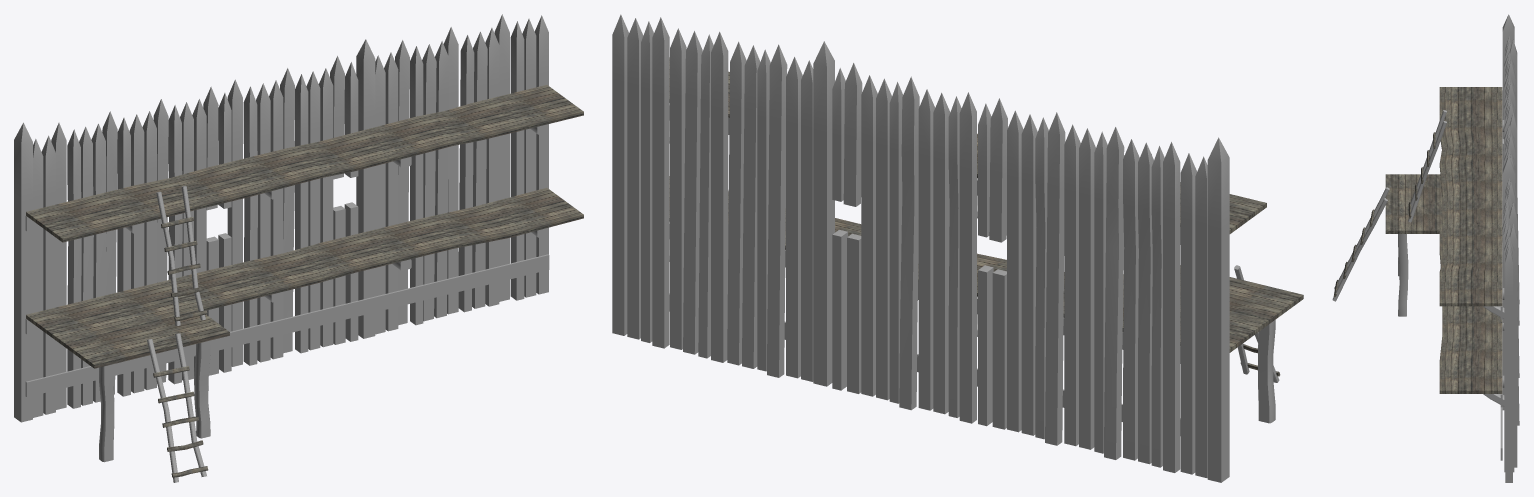
File: wall_wood_1.fbx
The picture shows the model from 3 angles, left to right: view 1: azimuth 30°, elevation 25°; view 2: azimuth 150°, elevation 25°; view 3: azimuth 270°, elevation 25°; orthographic projection. The views are drawn at different scales.
Parts seen in each view (by area): view 1: Mesh (3); view 2: Mesh (3); view 3: Mesh (3).
Boxes of the visible parts, x1=… form: Mesh (3): x1=14, y1=14, x2=583, y2=482; Mesh (3): x1=612, y1=14, x2=1303, y2=482; Mesh (3): x1=1332, y1=14, x2=1519, y2=482.
Bounding box in the file's own units: 2073 × 1119 × 746.
